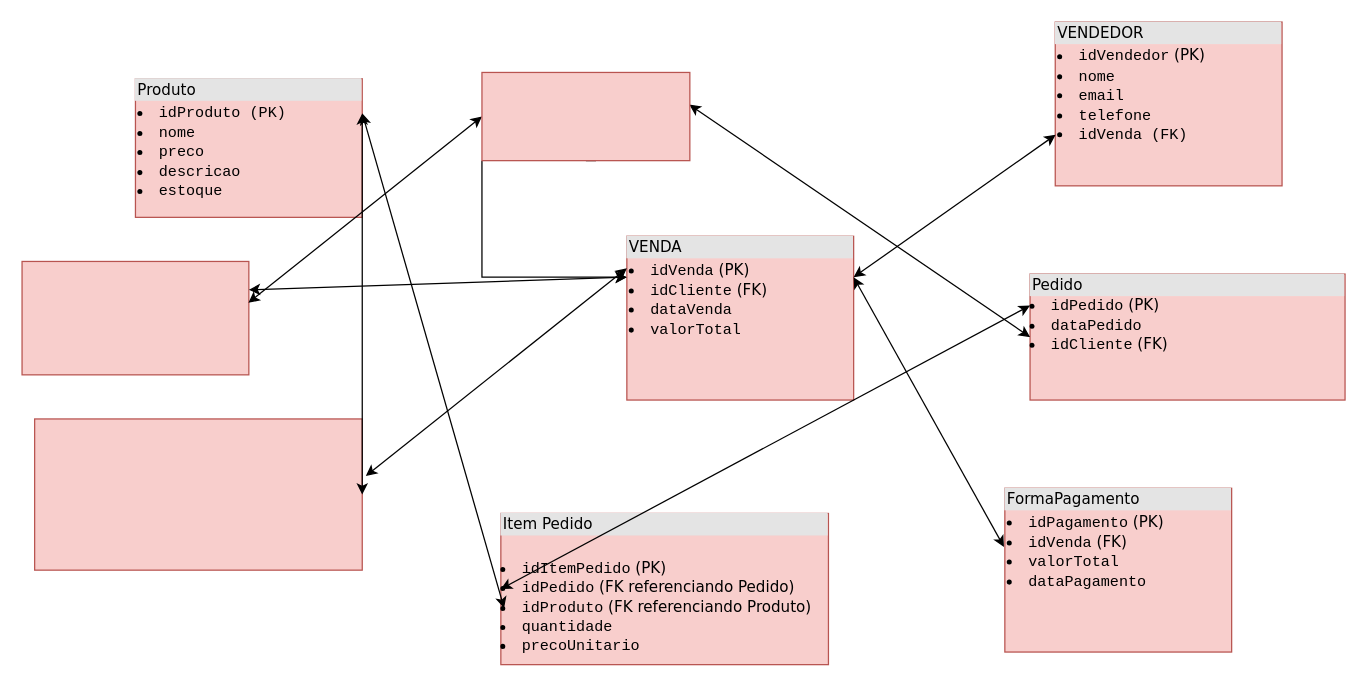
Image size: 1367x687. Some labels were removed from this diagram. The shapes that lost their labels are listed below. From the top down, each one's box as (x1, y1, x2, y2) in pixels, then its label:
(481, 71, 690, 161): Estoque idEstoque (PK) quantidade idVenda (FK)
(21, 260, 249, 375): Cliente idCliente (pk) nome email endereco
(33, 418, 362, 570): Item venda idItemVenda (PK) idVenda (FK) idProduto (FK) quantidade precoUnitario
